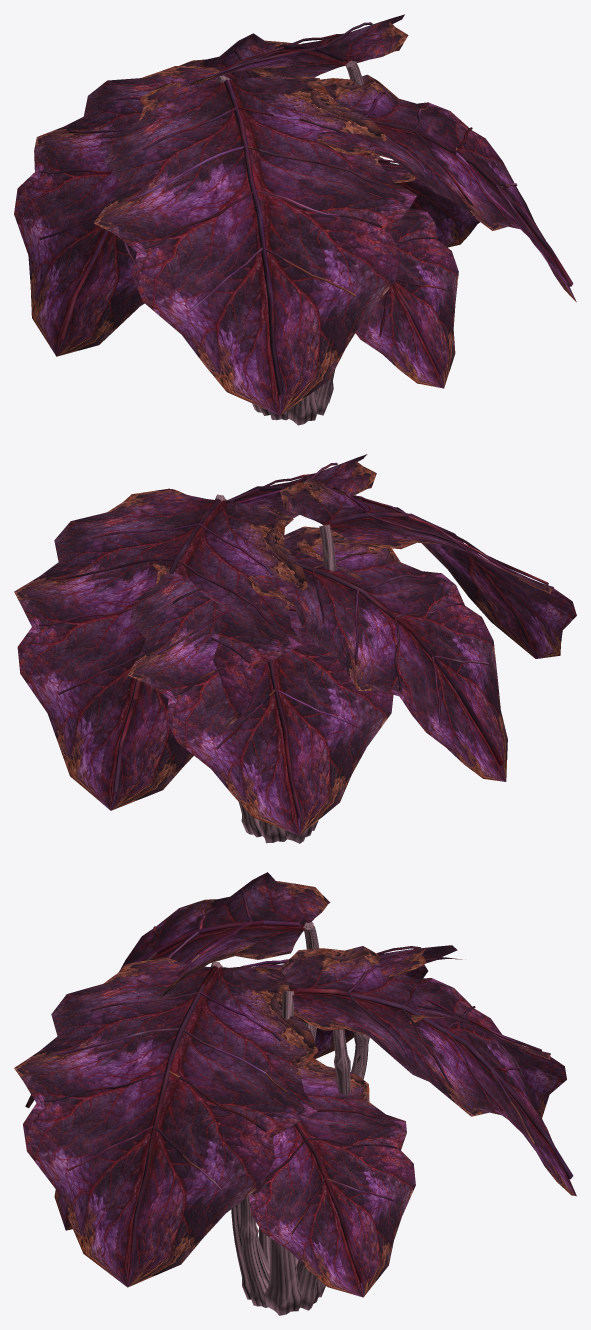
File: giantleaf_03.glb
The picture shows the model from 3 angles, top to bottom: view 1: azimuth 30°, elevation 25°; view 2: azimuth 150°, elevation 25°; view 3: azimuth 270°, elevation 25°; orthographic projection. The views are drawn at different scales.
Parts seen in each view (by area): view 1: export; view 2: export; view 3: export.
Boxes of the visible parts, x1,y1,x2,y2 form: export: (14, 14, 576, 425); export: (14, 454, 576, 843); export: (14, 872, 576, 1315).
Size of the model in its own units: 2.42 by 1.75 by 2.57.
Materials: 3 (3 with a texture image).
